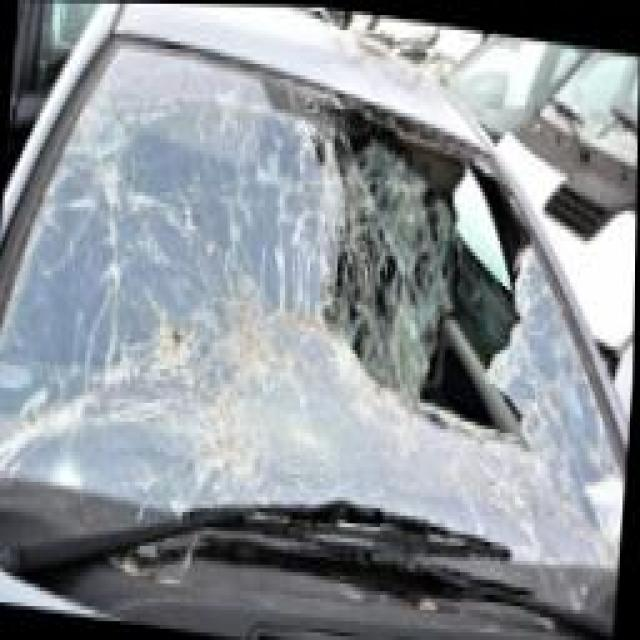Windshield: (18, 98, 620, 601)
